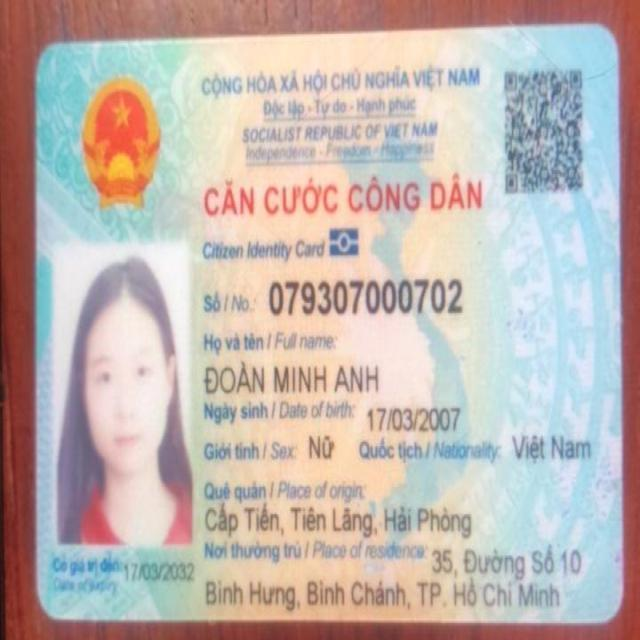bottom_left: (25, 578, 69, 626)
bottom_right: (579, 581, 640, 640)
image_person: (53, 247, 194, 546)
top_left: (17, 25, 70, 91)
top_right: (574, 8, 628, 64)
